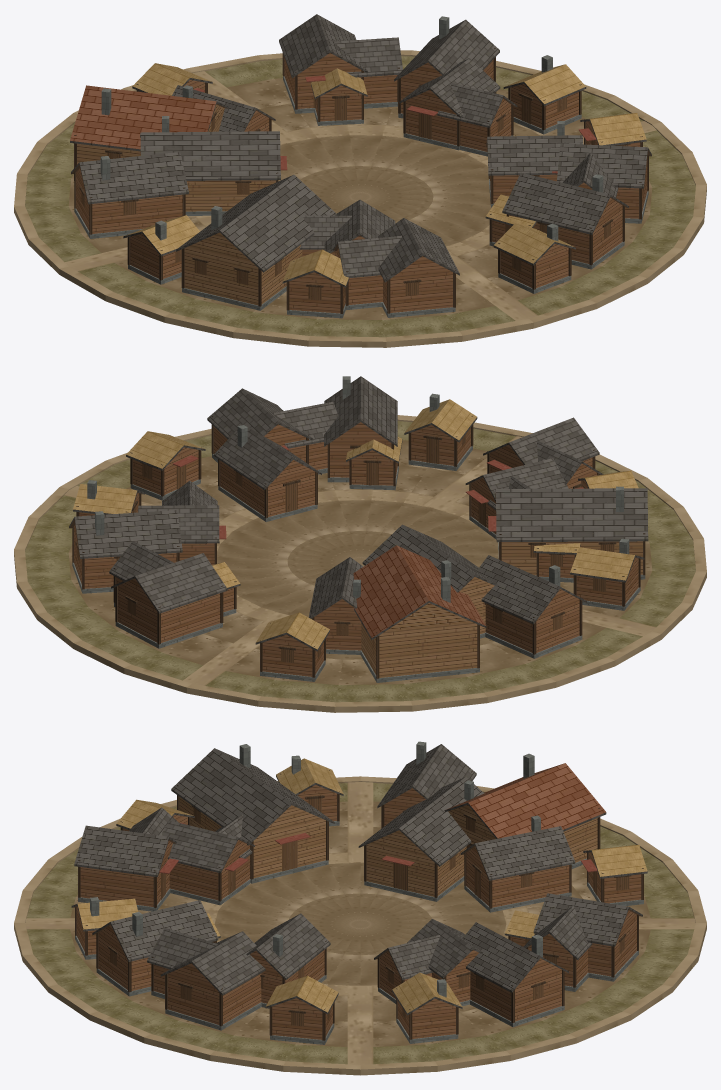
File: ae_sand_village_small_lod1.glb
3 views of the same model, one above another, from view 1: azimuth 30°, elevation 25°; view 2: azimuth 150°, elevation 25°; view 3: azimuth 270°, elevation 25° (orthographic).
Visible parts, largest first — view 1: ae_sand_village_small_lod1; view 2: ae_sand_village_small_lod1; view 3: ae_sand_village_small_lod1.
Part boxes in pixels (x1,y1,x2,y2): ae_sand_village_small_lod1: (14, 14, 706, 347); ae_sand_village_small_lod1: (14, 376, 706, 712); ae_sand_village_small_lod1: (14, 741, 706, 1075).
Size of the model in its own units: 1.9 by 0.2738 by 1.9.
1 material, 1 textured.
